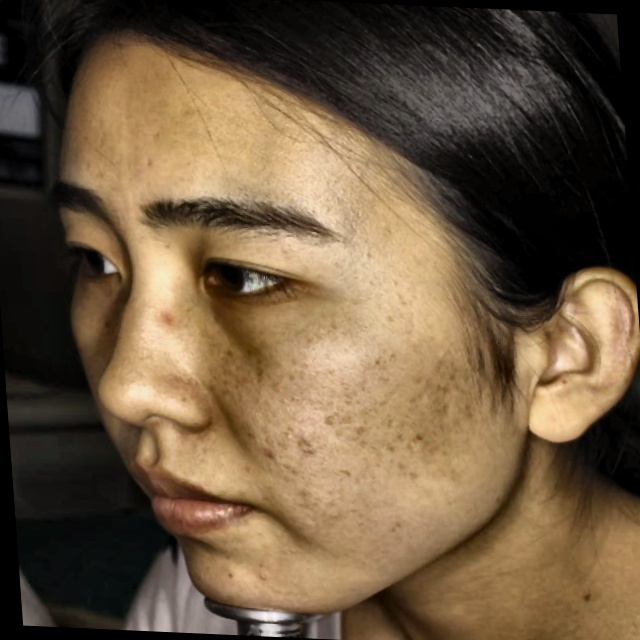comedone: (148, 308, 183, 344)
